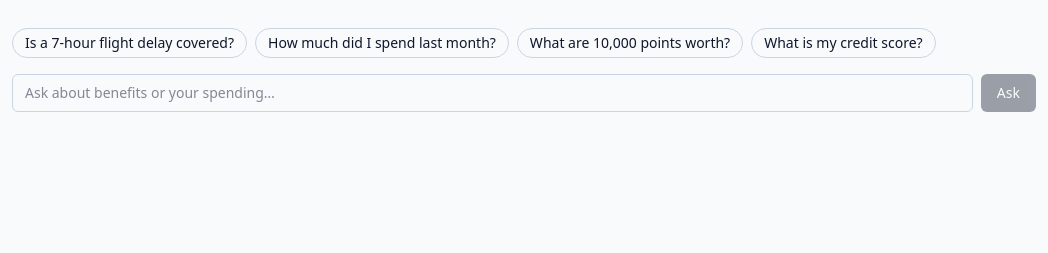
Test: ChatPanel › explains when a guardrail withheld the model's answer
The width and height of the screenshot is (1048, 253).
Click the button "What is my credit score?" at (843, 43), box top-left (751, 28), bottom-right (936, 58)
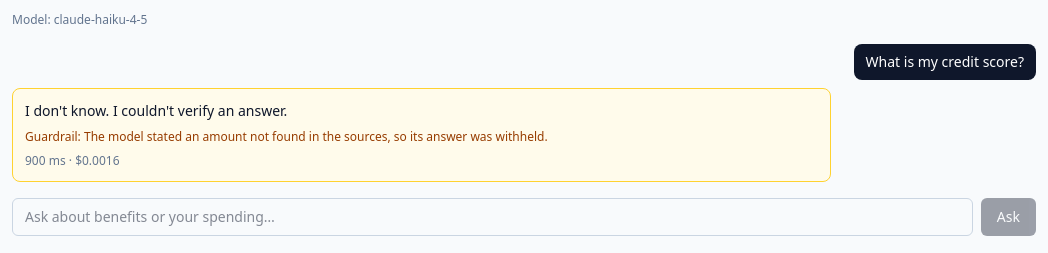
Expected: the text "stated an amount not found in the sources" is shown, top-left (84, 128), bottom-right (548, 145)
